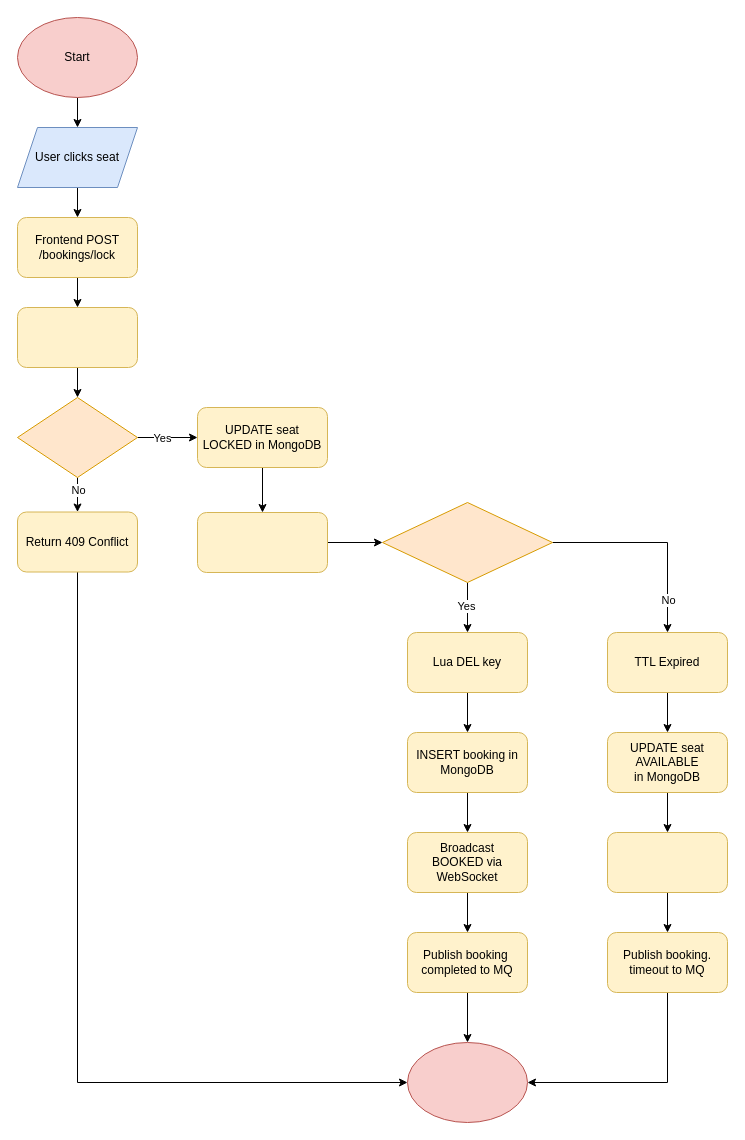
This 745x1140 diagram has some shape labels left out. The shapes that lost their labels are listed below. From the top down, each one's centre as x and y in pixels, then its label:
At pixel 77 337: "Backend SET NX EX 300 in Redis".
At pixel 77 437: "Lock successful?".
At pixel 262 542: "Broadcast LOCKED via WebSocket".
At pixel 467 542: "Payment within 5 minutes?".
At pixel 667 862: "Broadcast AVAILABLE via WebSocket".
At pixel 467 1082: "End".
